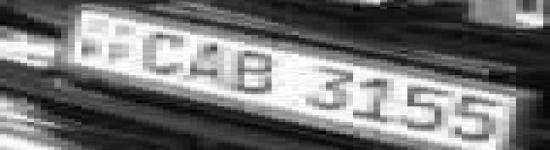1: (346, 75, 399, 125)
3: (303, 64, 359, 112)
5: (450, 91, 506, 144), (398, 82, 452, 133)
A: (193, 39, 226, 87)
B: (231, 47, 279, 97)
C: (129, 29, 189, 76)
P: (106, 42, 130, 67)
W: (72, 37, 105, 64)
